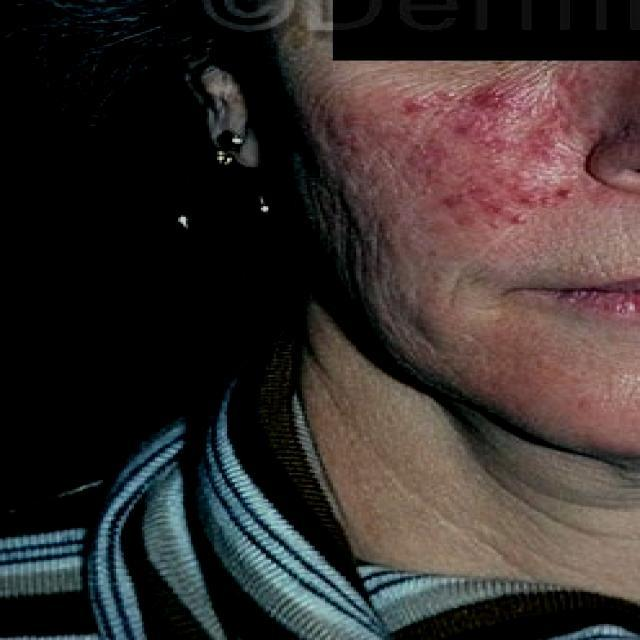Rosacea: (323, 60, 589, 220)
